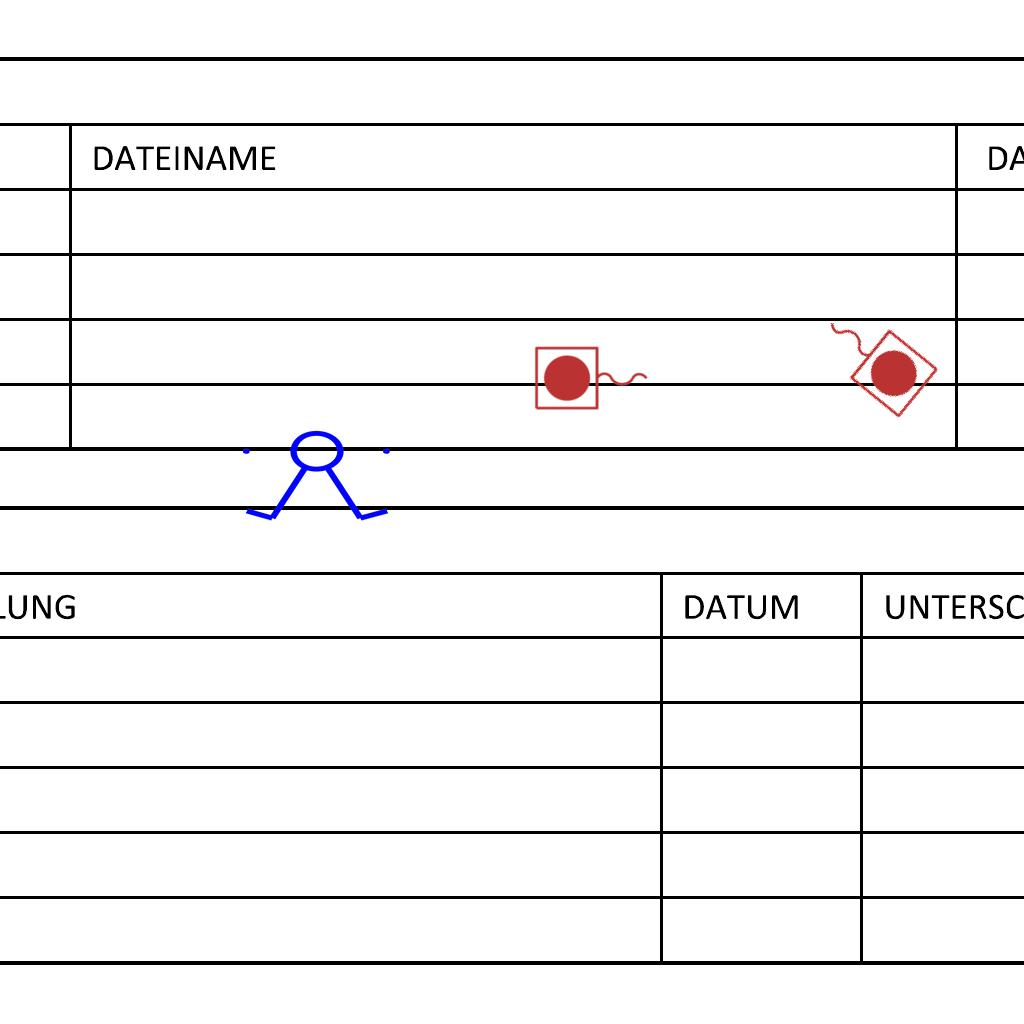Serienschalter: (234, 429, 402, 525)
Zugtaster: (804, 290, 946, 424), (531, 343, 653, 415)
